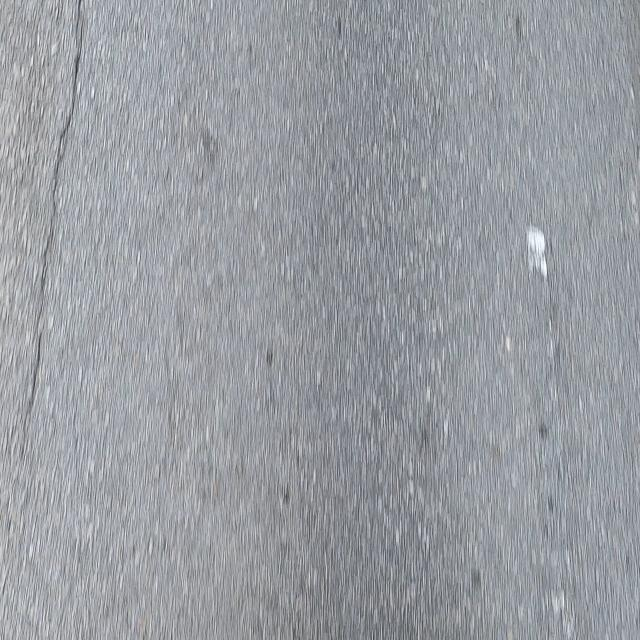Retak-Memanjang: (18, 0, 86, 455)
